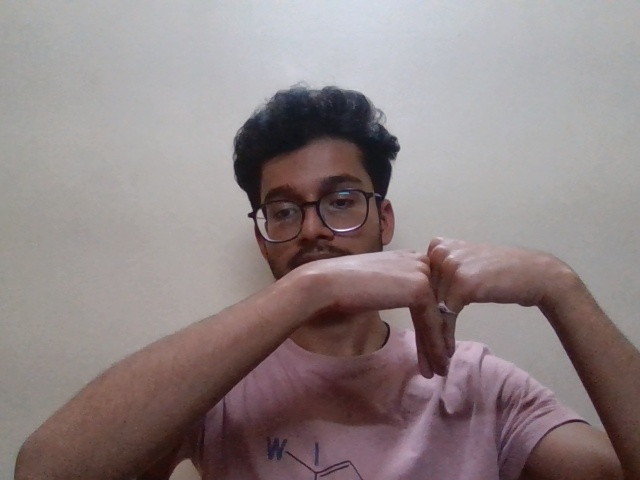yesterday: (298, 224, 578, 398)
